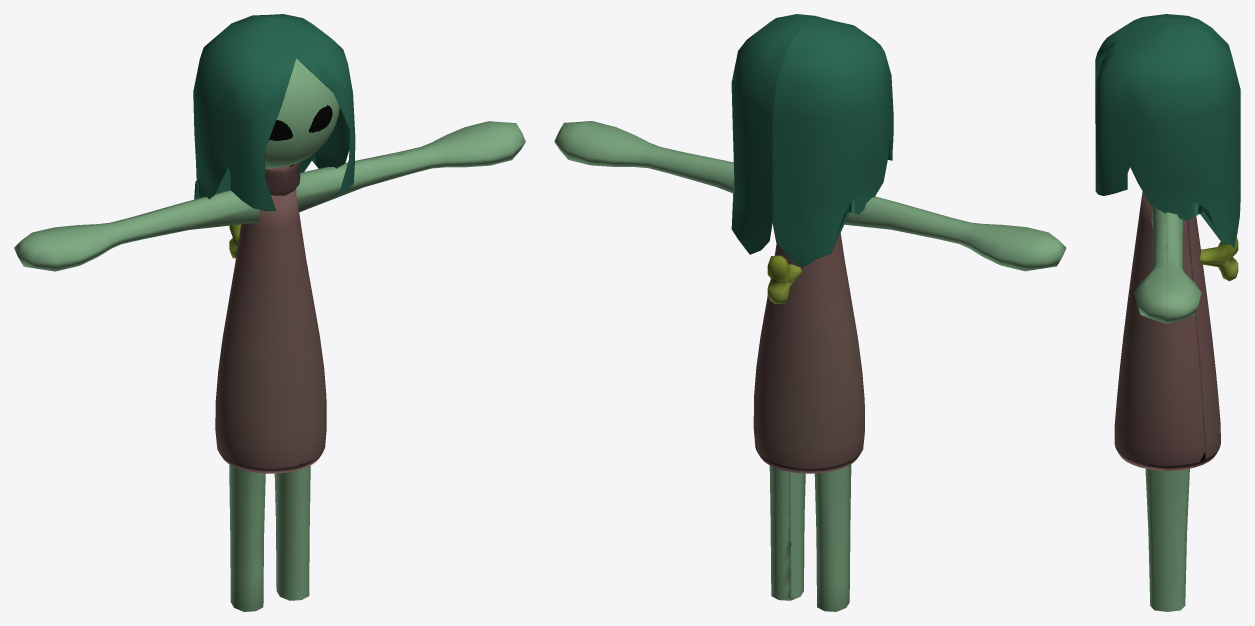
Rendered from enemy_1.fbx.
3 renders of one model, left to right at view 1: azimuth 30°, elevation 25°; view 2: azimuth 150°, elevation 25°; view 3: azimuth 270°, elevation 25°, orthographic.
Parts seen in each view (by area): view 1: polySurface11.001, leg(R), leg(L); view 2: polySurface11.001, leg(R), leg(L); view 3: polySurface11.001, leg(L).
Part boxes in pixels (<box>): polySurface11.001: <box>14,14,525,473</box>; leg(R): <box>229,464,265,611</box>; leg(L): <box>274,465,310,600</box>; polySurface11.001: <box>554,14,1066,473</box>; leg(R): <box>814,464,851,611</box>; leg(L): <box>769,465,805,600</box>; polySurface11.001: <box>1095,14,1240,470</box>; leg(L): <box>1145,468,1189,611</box>.
Bounding box in the file's own units: 7.26 × 7.97 × 1.83.
